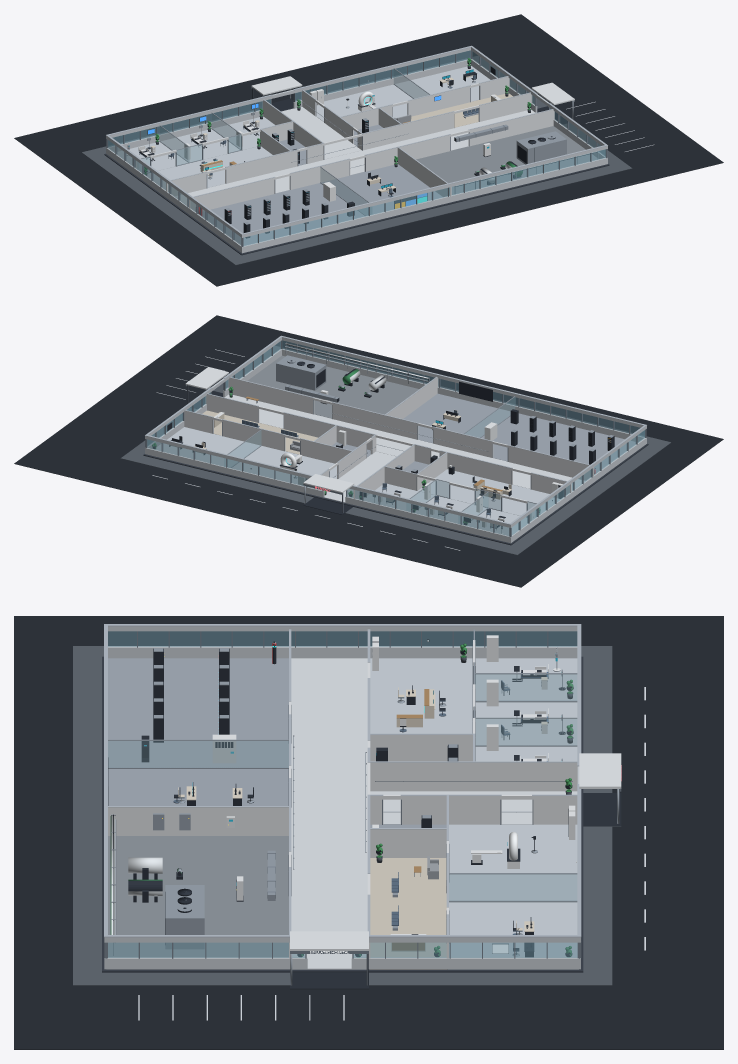
The model's file is hospital.glb.
The picture shows the model from 3 angles, top to bottom: view 1: azimuth 30°, elevation 25°; view 2: azimuth 150°, elevation 25°; view 3: azimuth 270°, elevation 25°; orthographic projection. The views are drawn at different scales.
Visible parts, largest first — view 1: ARCH_Site, ARCH_Walls_Solid, ARCH_Walls_Glass, DECOR_Merged, ROOM_BMS-PLANT-ROOM, ROOM_DC-SERVER-ROOM, ROOM_CORRIDOR-MAIN, ROOM_DC-SECURITY-OFFICE, ROOM_IMG-CT-ROOM, ROOM_ICU-NURSE-STATION, ROOM_IMG-READING, ROOM_CORRIDOR-NORTH (+4 smaller); view 2: ARCH_Site, ARCH_Walls_Solid, ARCH_Walls_Glass, DECOR_Merged, ROOM_DC-SERVER-ROOM, ROOM_BMS-PLANT-ROOM, ROOM_CORRIDOR-MAIN, ROOM_DC-SECURITY-OFFICE, ROOM_ICU-NURSE-STATION, ROOM_IMG-READING, ROOM_IMG-CT-ROOM, ROOM_CORRIDOR-NORTH (+4 smaller); view 3: ARCH_Site, ARCH_Walls_Solid, ARCH_Walls_Glass, ROOM_CORRIDOR-MAIN, DECOR_Merged, ROOM_DC-SERVER-ROOM, ROOM_BMS-PLANT-ROOM, ROOM_IMG-CT-ROOM, ROOM_ICU-NURSE-STATION, ROOM_IMG-WAITING, ROOM_DC-SECURITY-OFFICE, ROOM_IMG-READING (+4 smaller).
Part boxes in pixels (x1=…): ARCH_Site: x1=14, y1=14, x2=723, y2=286; ARCH_Walls_Solid: x1=106, y1=45, x2=607, y2=253; ARCH_Walls_Glass: x1=108, y1=50, x2=605, y2=245; DECOR_Merged: x1=132, y1=58, x2=598, y2=233; ROOM_BMS-PLANT-ROOM: x1=416, y1=126, x2=597, y2=194; ROOM_DC-SERVER-ROOM: x1=202, y1=183, x2=364, y2=245; ROOM_CORRIDOR-MAIN: x1=175, y1=109, x2=536, y2=204; ROOM_DC-SECURITY-OFFICE: x1=321, y1=164, x2=442, y2=215; ROOM_IMG-CT-ROOM: x1=316, y1=84, x2=412, y2=121; ROOM_ICU-NURSE-STATION: x1=147, y1=146, x2=272, y2=189; ROOM_IMG-READING: x1=395, y1=66, x2=490, y2=101; ROOM_CORRIDOR-NORTH: x1=281, y1=107, x2=361, y2=159; ARCH_Site: x1=14, y1=315, x2=723, y2=587; ARCH_Walls_Solid: x1=145, y1=335, x2=646, y2=543; ARCH_Walls_Glass: x1=147, y1=340, x2=644, y2=536; DECOR_Merged: x1=152, y1=342, x2=596, y2=529; ROOM_DC-SERVER-ROOM: x1=481, y1=413, x2=635, y2=472; ROOM_BMS-PLANT-ROOM: x1=247, y1=355, x2=418, y2=418; ROOM_CORRIDOR-MAIN: x1=224, y1=394, x2=584, y2=490; ROOM_DC-SECURITY-OFFICE: x1=403, y1=393, x2=510, y2=443; ROOM_ICU-NURSE-STATION: x1=418, y1=469, x2=560, y2=517; ROOM_IMG-READING: x1=155, y1=427, x2=259, y2=467; ROOM_IMG-CT-ROOM: x1=232, y1=446, x2=336, y2=483; ROOM_CORRIDOR-NORTH: x1=324, y1=451, x2=396, y2=502; ARCH_Site: x1=14, y1=616, x2=723, y2=1049; ARCH_Walls_Solid: x1=104, y1=624, x2=581, y2=969; ARCH_Walls_Glass: x1=108, y1=631, x2=577, y2=957; ROOM_CORRIDOR-MAIN: x1=291, y1=658, x2=367, y2=969; DECOR_Merged: x1=108, y1=635, x2=621, y2=989; ROOM_DC-SERVER-ROOM: x1=108, y1=658, x2=288, y2=767; ROOM_BMS-PLANT-ROOM: x1=106, y1=836, x2=289, y2=969; ROOM_IMG-CT-ROOM: x1=449, y1=824, x2=577, y2=900; ROOM_ICU-NURSE-STATION: x1=370, y1=658, x2=472, y2=733; ROOM_IMG-WAITING: x1=369, y1=858, x2=447, y2=969; ROOM_DC-SECURITY-OFFICE: x1=108, y1=769, x2=288, y2=805; ROOM_IMG-READING: x1=448, y1=902, x2=578, y2=969.
Bounding box in the file's own units: 78 × 3.43 × 54.
